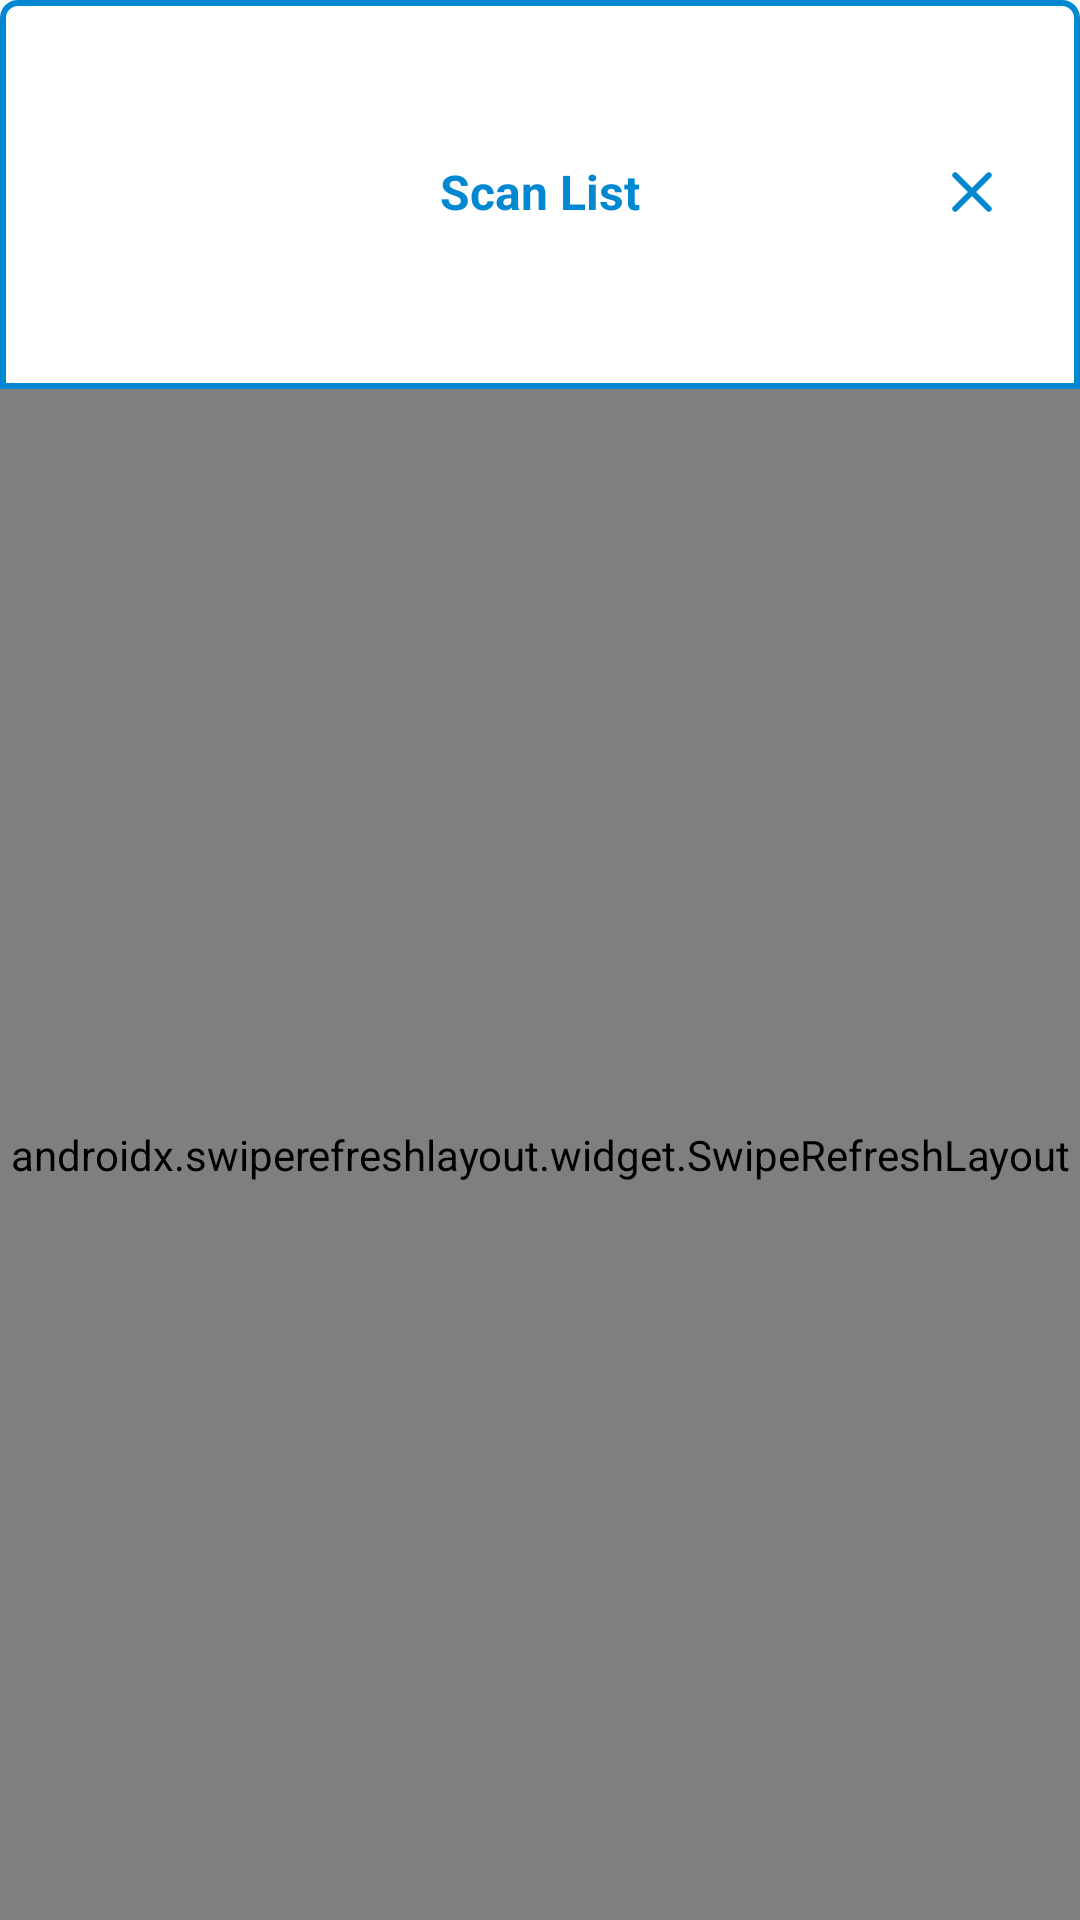

Named icons in this screenshot (1080 × 1920) and their bounding boxes, (x1, y1, x2, y2):
clear: (952, 172, 992, 212)
